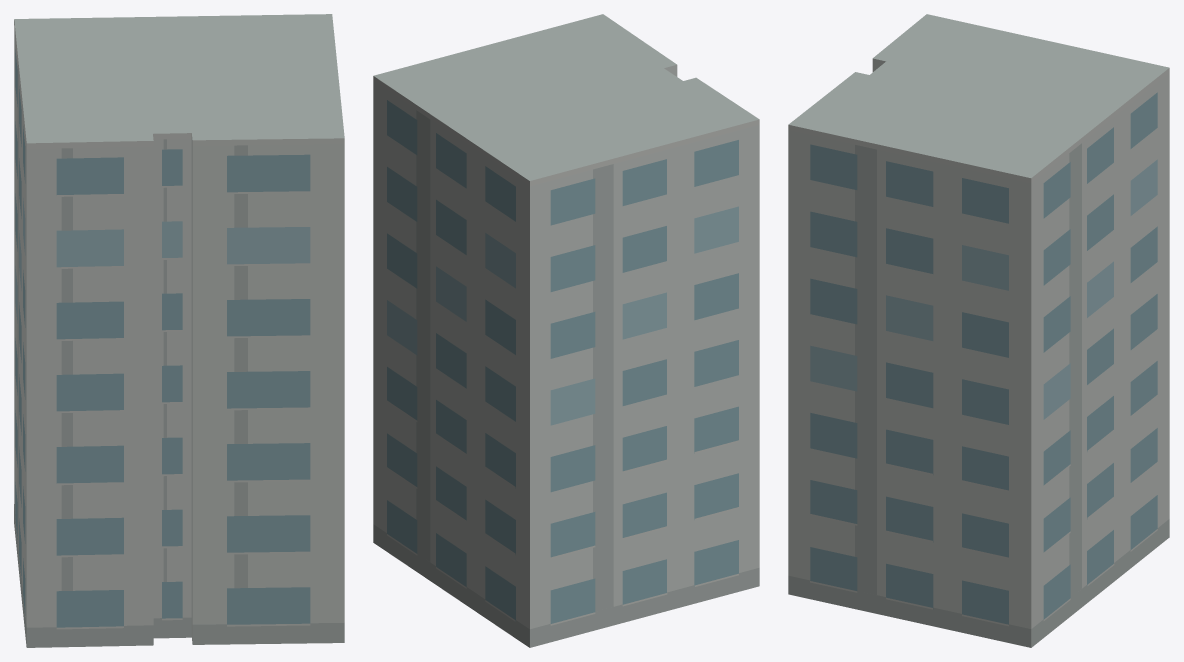
The model's file is survey-upis-32554880.glb.
3 renders of one model, left to right at view 1: azimuth 30°, elevation 25°; view 2: azimuth 150°, elevation 25°; view 3: azimuth 270°, elevation 25°, orthographic. The views are drawn at different scales.
Visible parts, largest first — view 1: survey-upis-32554880.tmp; view 2: survey-upis-32554880.tmp; view 3: survey-upis-32554880.tmp.
Boxes of the visible parts, left/top/right/bottom form: survey-upis-32554880.tmp: left=14, top=14, right=344, bottom=647; survey-upis-32554880.tmp: left=373, top=14, right=759, bottom=647; survey-upis-32554880.tmp: left=788, top=14, right=1169, bottom=647.
Size of the model in its own units: 16.02 by 21.35 by 15.72.
